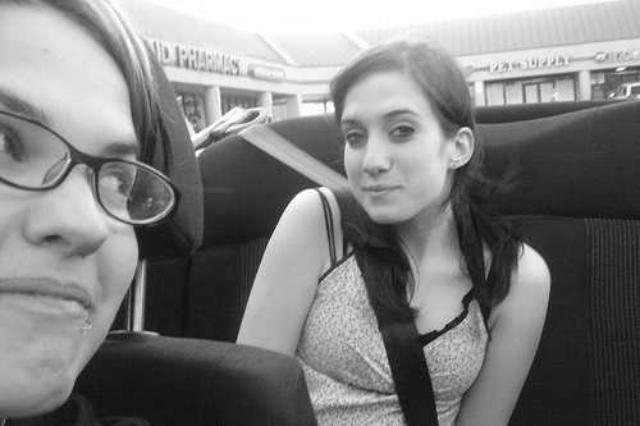SafeDriving: (0, 109, 47, 172), (383, 115, 422, 144), (338, 121, 372, 149)
Seatbelt: (252, 144, 446, 426)
